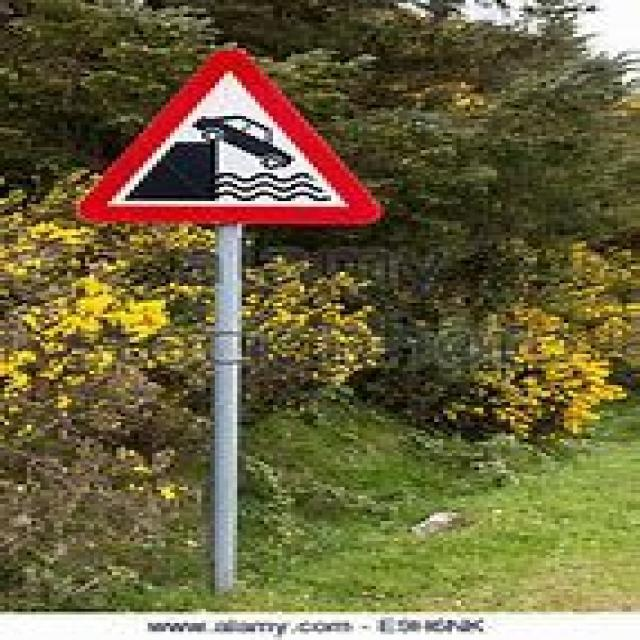quay side or river bank: (78, 39, 378, 225)
